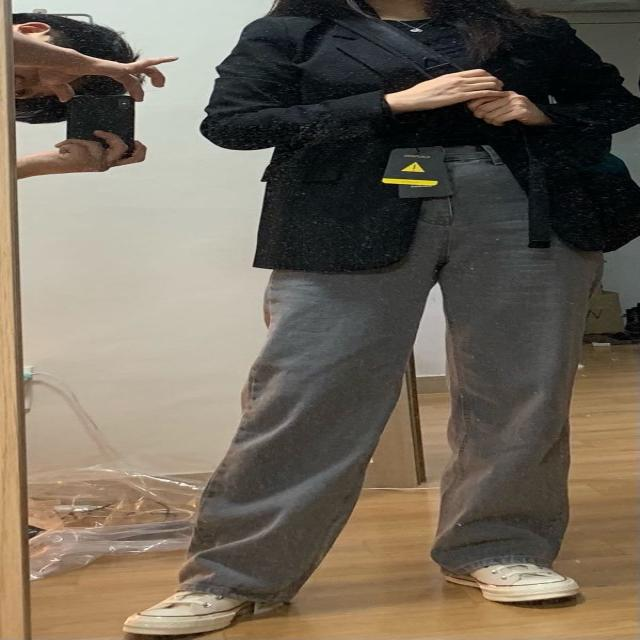blazer: (200, 3, 640, 274)
denimpants: (179, 139, 606, 604)
